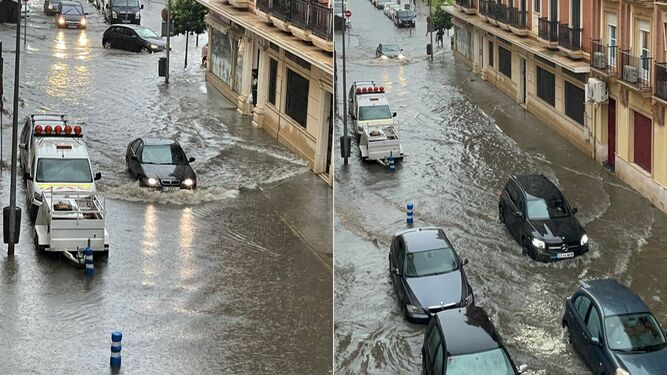car: (557, 276, 665, 374), (491, 167, 600, 264), (386, 226, 482, 306), (18, 112, 104, 197), (424, 309, 519, 374), (124, 132, 202, 193), (97, 18, 171, 55), (349, 78, 394, 129), (105, 0, 145, 24), (374, 39, 407, 65), (56, 2, 87, 29)
